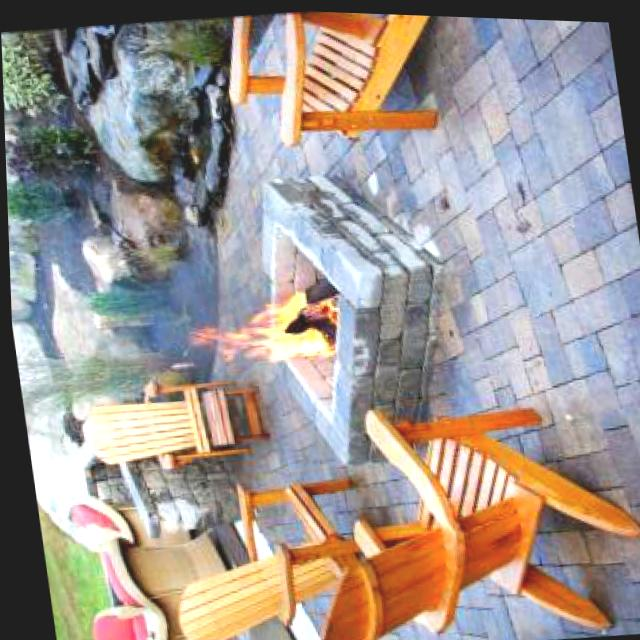helmet: (211, 288, 332, 361)
